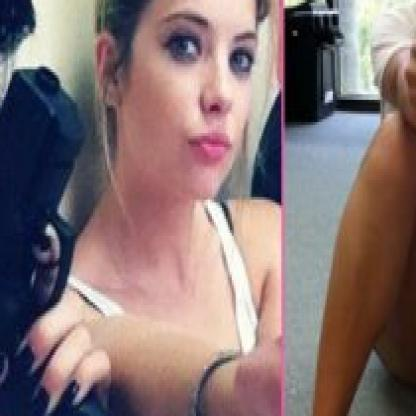gun: (0, 67, 184, 413)
